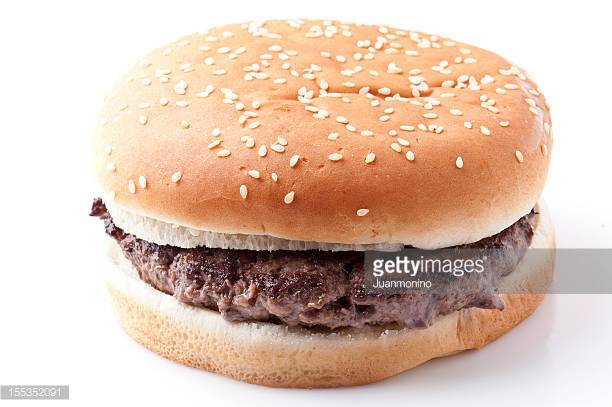hamburger: (87, 9, 566, 407)
